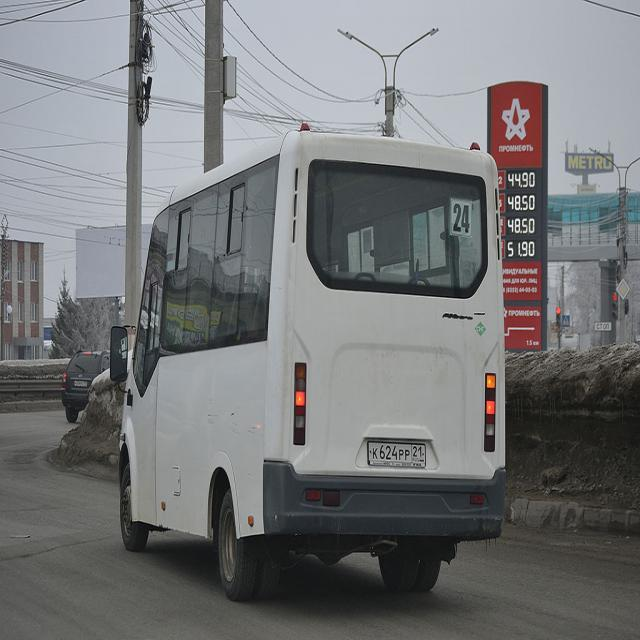number-of-bus: (453, 202, 477, 240)
